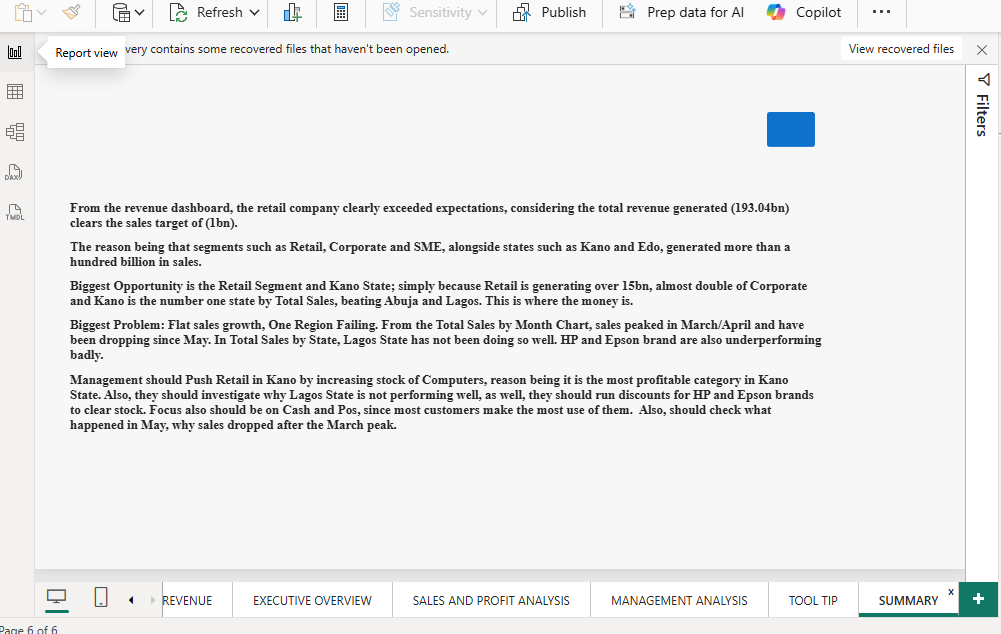

Layout of this report page (visuals, bound fields, positions):
{"tool":"powerbi","page":{"name":"SUMMARY","canvas":[1920,1080],"ordinal":5},"visuals":[{"type":"actionButton","box":[1511.2,138.3,99.1,72.3],"z":0},{"type":"textbox","box":[72.3,320,1552.5,607],"z":1}]}

Visuals, with their boxes on the page's 1920x1080 design canvas (x1, y1, x2, y2). These are canvas units, not pixel positions in the 1001x634 screenshot, which may show the page scaled, cropped or inside an application window:
actionButton: crop(1511, 138, 1610, 211)
textbox: crop(72, 320, 1625, 927)
